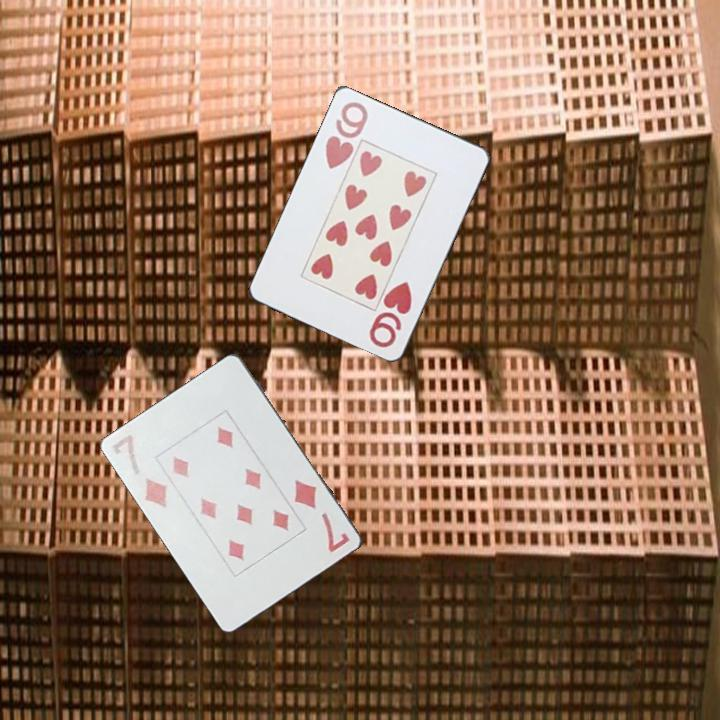7d: (109, 431, 172, 511), (291, 476, 353, 555)
9h: (321, 97, 371, 172), (365, 276, 415, 350)
